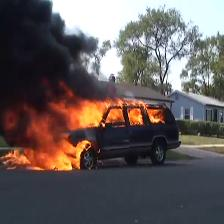fire: (1, 104, 92, 171), (48, 82, 165, 130)
